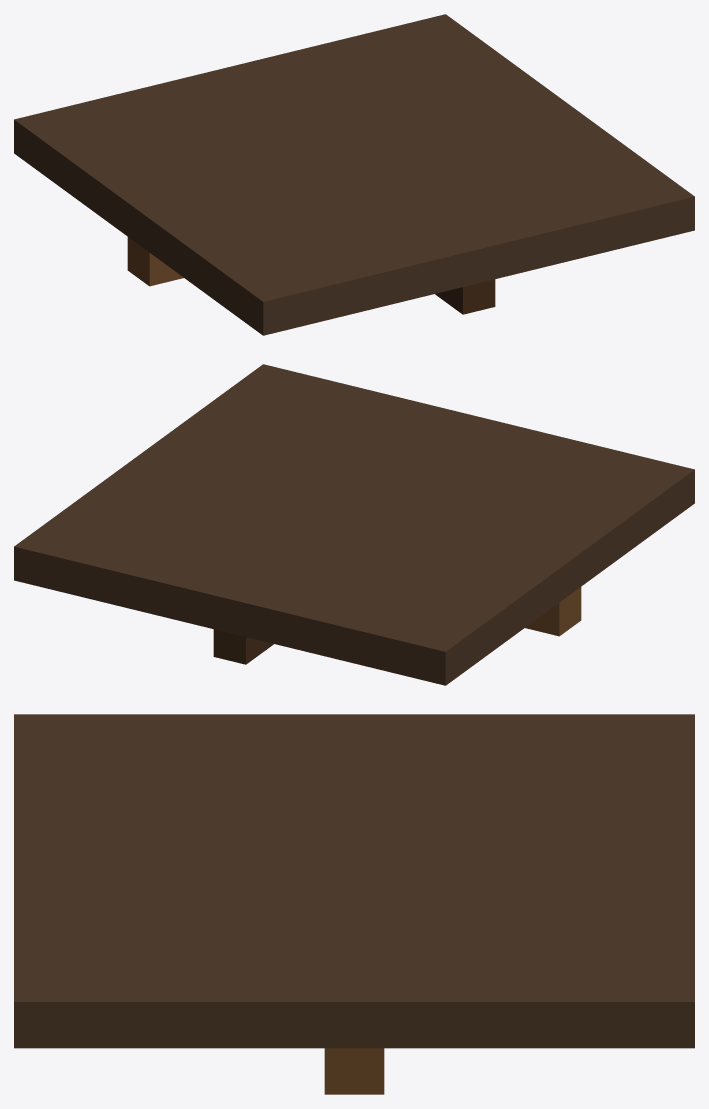
Rendered from ceiling_4m.glb.
The picture shows the model from 3 angles, top to bottom: view 1: azimuth 30°, elevation 25°; view 2: azimuth 150°, elevation 25°; view 3: azimuth 270°, elevation 25°; orthographic projection. The views are drawn at different scales.
Visible parts, largest first — view 1: ceiling_4m; view 2: ceiling_4m; view 3: ceiling_4m.
Boxes of the visible parts, <box> form: ceiling_4m: <box>14,14,694,335</box>; ceiling_4m: <box>14,364,694,685</box>; ceiling_4m: <box>14,714,694,1094</box>.
Bounding box in the file's own units: 4 × 0.6 × 4.
1 material, 1 textured.
